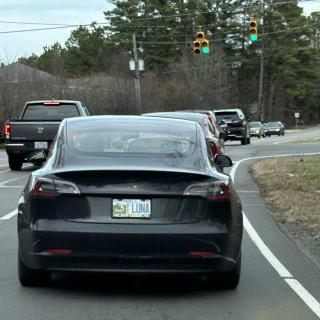license: (112, 198, 153, 220)
